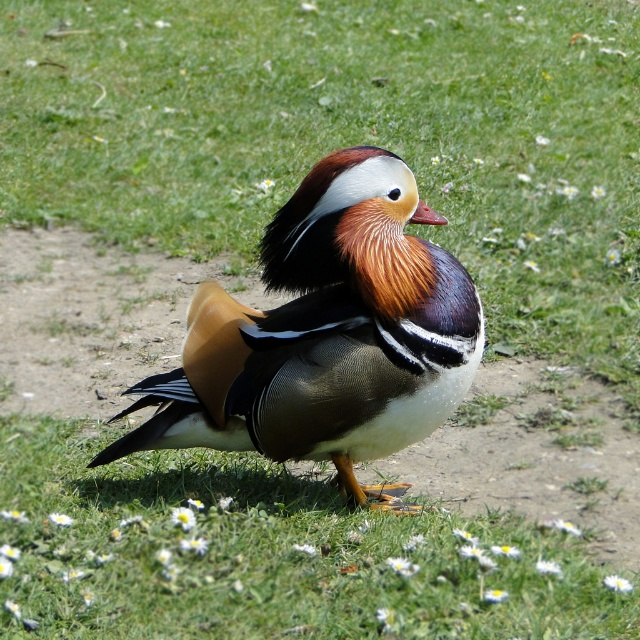Duck: (83, 146, 485, 521)
